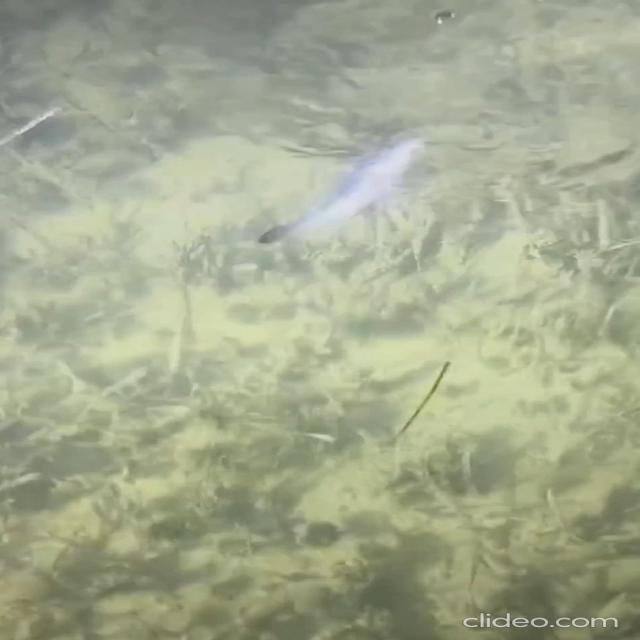fish: (256, 122, 435, 252)
